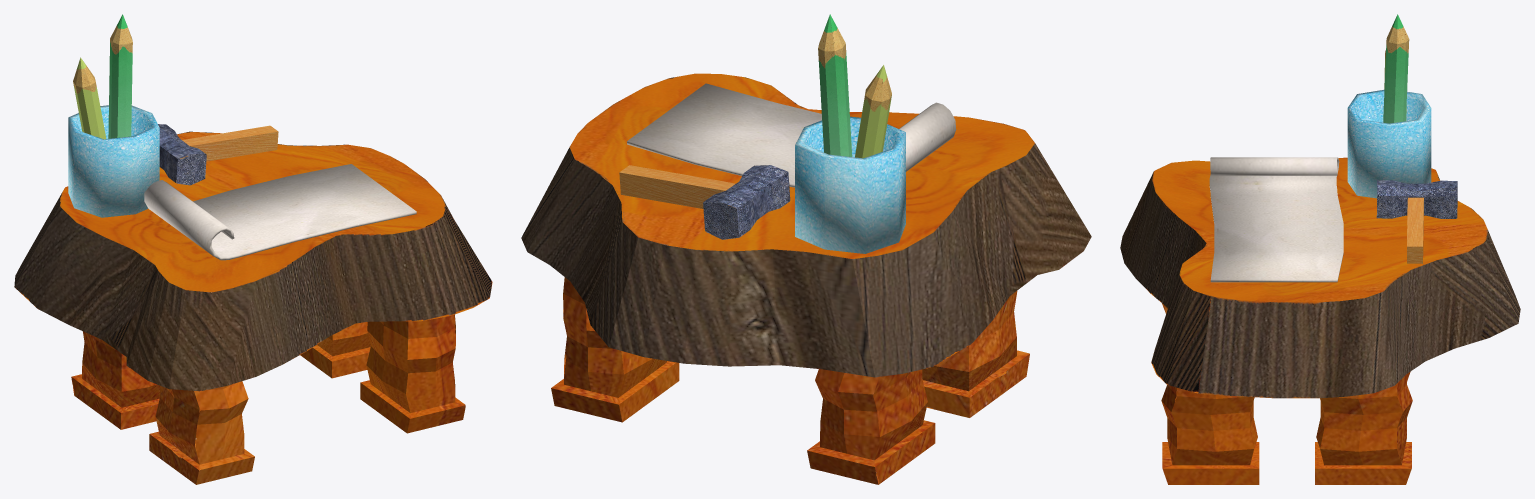
File: 作業台.fbx
3 renders of one model, left to right at view 1: azimuth 30°, elevation 25°; view 2: azimuth 150°, elevation 25°; view 3: azimuth 270°, elevation 25°, orthographic. The views are drawn at different scales.
Visible parts, largest first — view 1: Cube, Cube.001, BezierCurve, Cube.002, Cube.005, Cube.004, Cube.003; view 2: Cube, Cube.001, BezierCurve, Cube.002, Cube.005, Cube.004, Cube.003; view 3: Cube, Cube.001, BezierCurve, Cube.002, Cube.005, Cube.004.
Boxes of the visible parts, x1=… form: Cube: x1=14, y1=131, x2=492, y2=391; Cube.001: x1=71, y1=234, x2=465, y2=484; BezierCurve: x1=144, y1=164, x2=416, y2=260; Cube.002: x1=68, y1=105, x2=159, y2=217; Cube.005: x1=158, y1=124, x2=278, y2=185; Cube.004: x1=108, y1=14, x2=132, y2=138; Cube.003: x1=73, y1=57, x2=106, y2=139; Cube: x1=521, y1=73, x2=1091, y2=377; Cube.001: x1=551, y1=227, x2=1029, y2=484; BezierCurve: x1=627, y1=83, x2=956, y2=187; Cube.002: x1=795, y1=116, x2=905, y2=253; Cube.005: x1=619, y1=165, x2=790, y2=239; Cube.004: x1=818, y1=14, x2=852, y2=156; Cube.003: x1=855, y1=65, x2=891, y2=158; Cube: x1=1120, y1=157, x2=1520, y2=398; Cube.001: x1=1161, y1=303, x2=1412, y2=484; BezierCurve: x1=1209, y1=157, x2=1343, y2=282; Cube.002: x1=1347, y1=90, x2=1431, y2=198; Cube.005: x1=1376, y1=180, x2=1457, y2=263; Cube.004: x1=1383, y1=14, x2=1409, y2=123.
Bounding box in the file's own units: 105 × 99.55 × 98.97.
